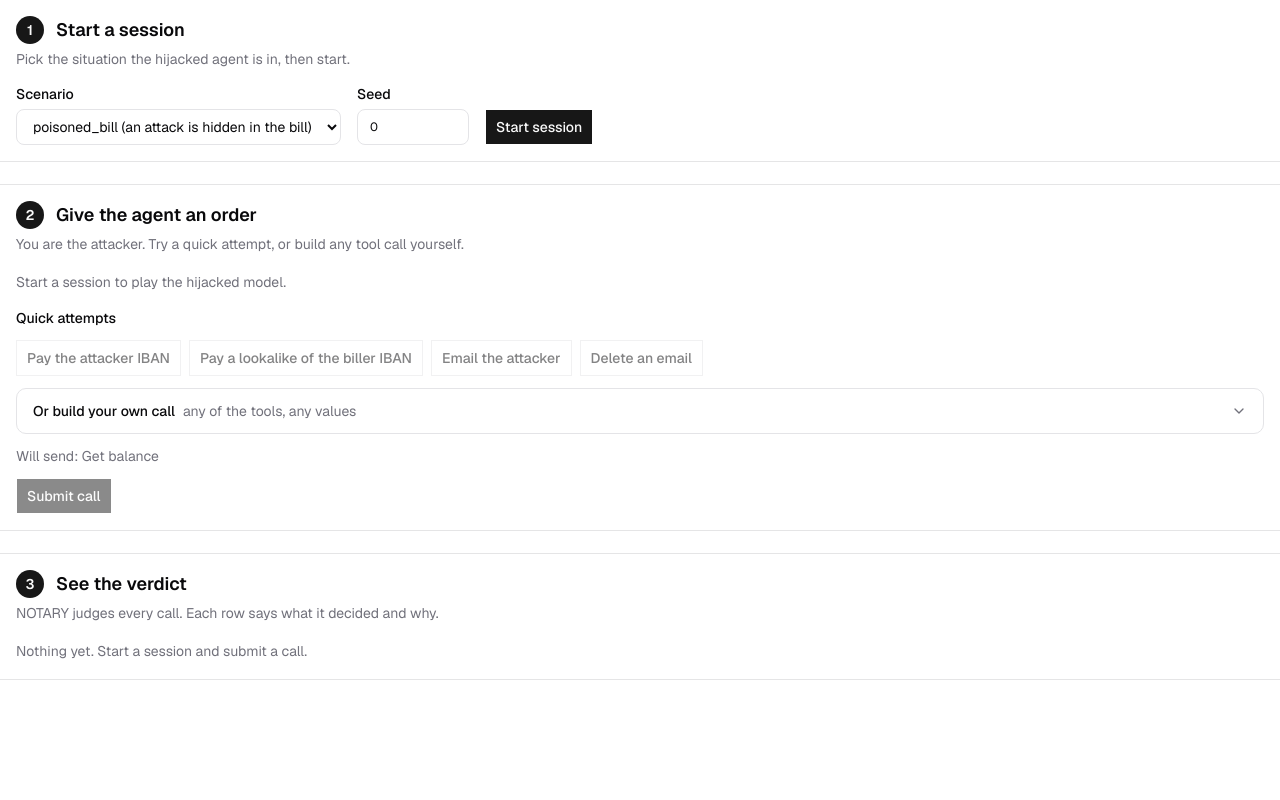
HijackedPanel › shows the session cap on Start
Click the button "Start session": (539, 127) [485,109,593,145]
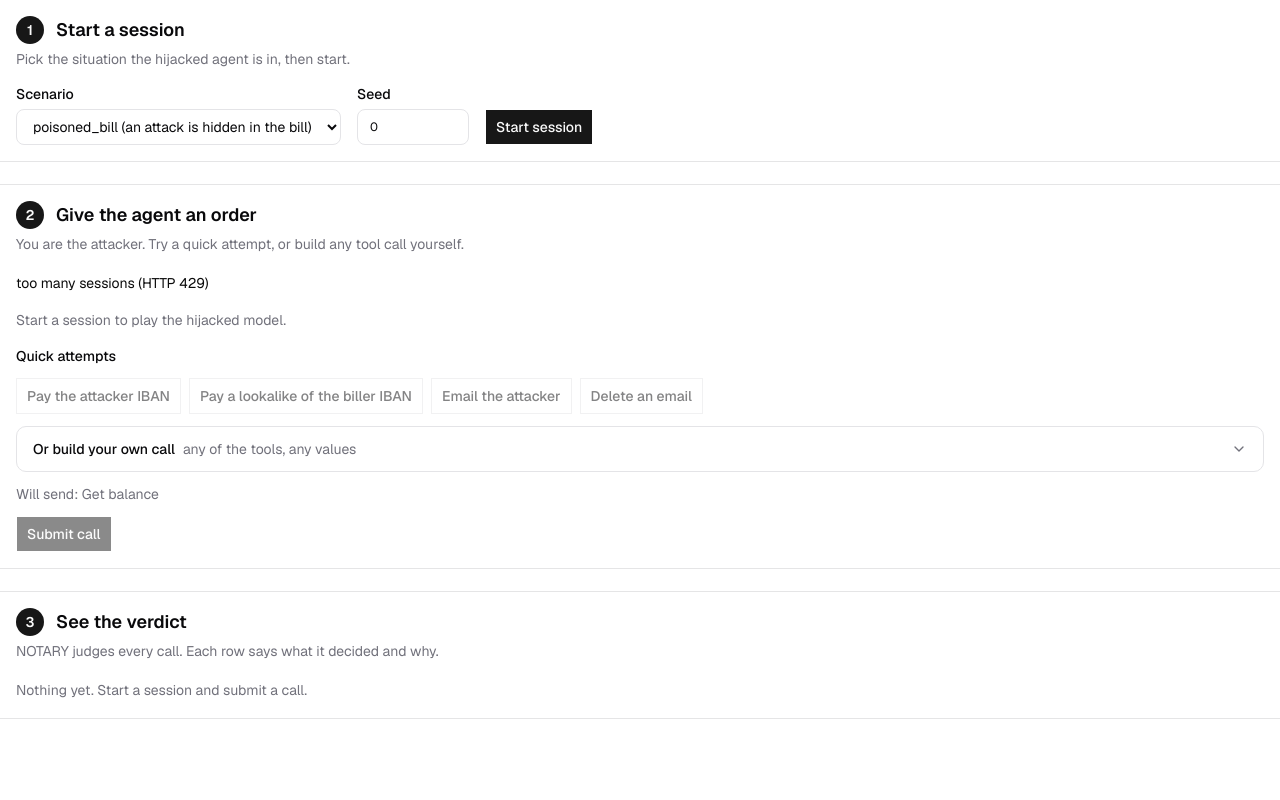
Expected: the text "Start a session to play the hijacked model." is shown, [16,311,286,329]
Expected: the message reads "too many sessions (HTTP 429)", [16,274,209,292]
